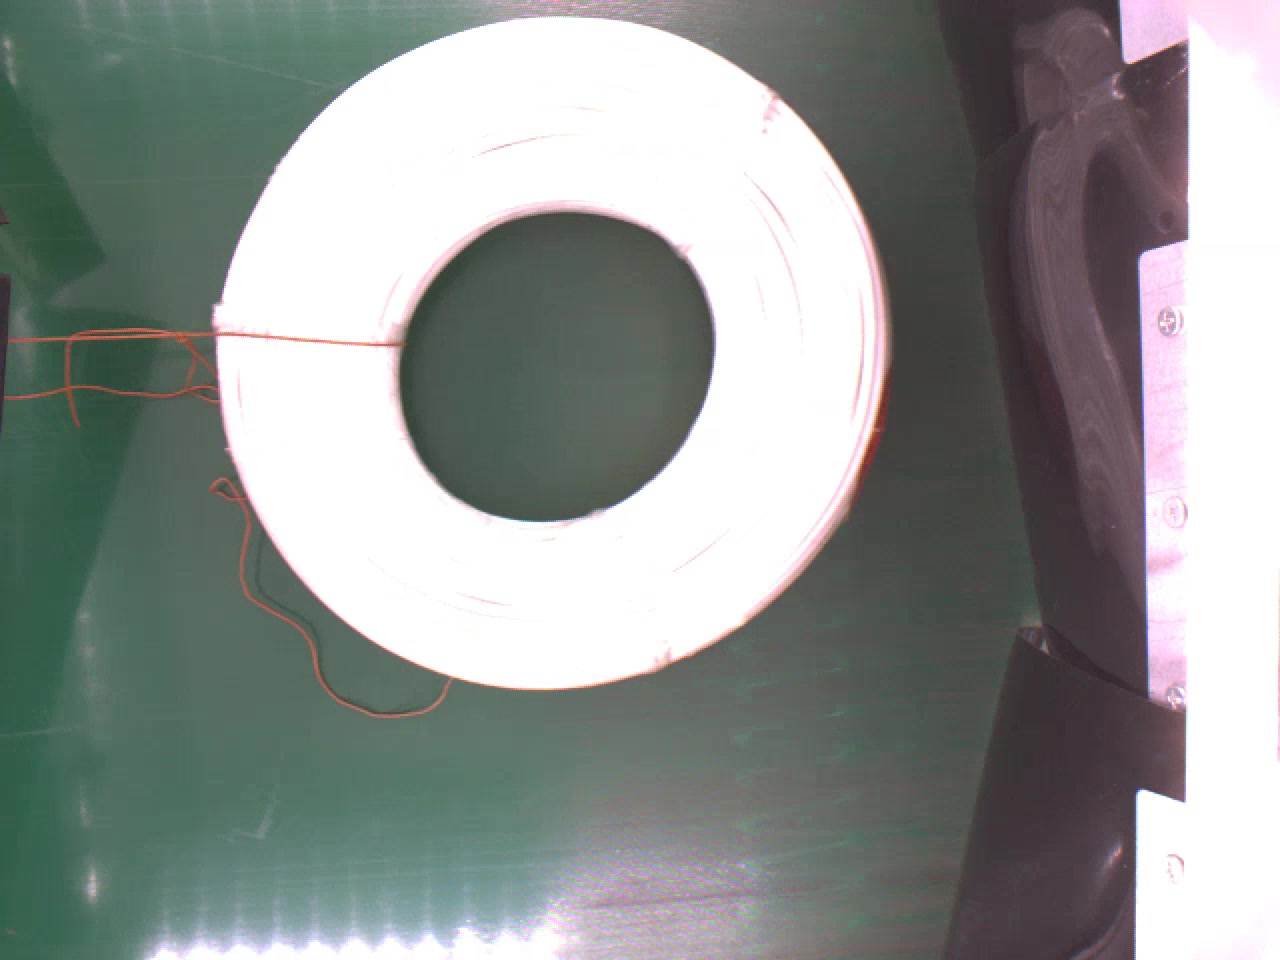white: (210, 16, 896, 699)
